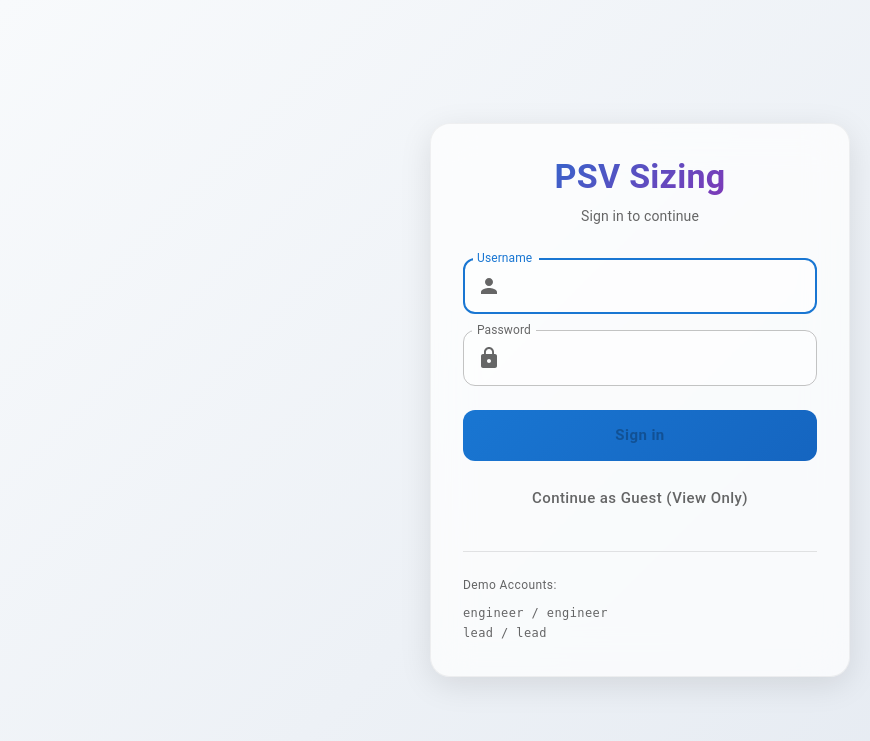
Test: LoginPage › shows error message when login fails
Type "invalid" into the field labelled "Username". click: (663, 286)
box: x1=509 y1=258 x2=817 y2=314
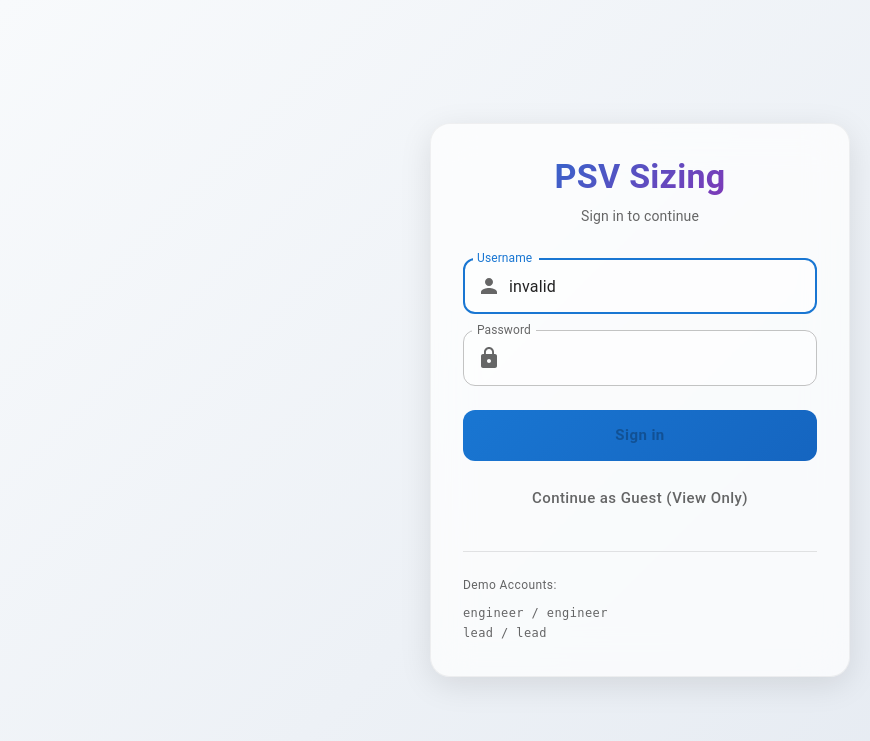
Type "invalid" into the password field labelled "Password". click: (663, 358)
box: x1=509 y1=330 x2=817 y2=386
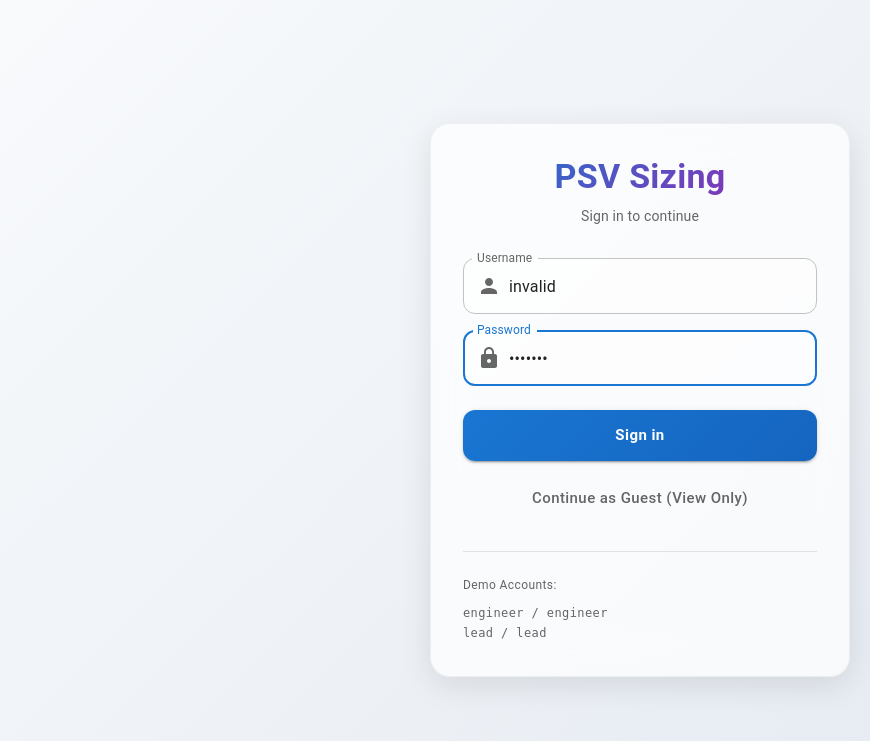
Click the button "Sign in". click: (640, 436)
box: x1=463 y1=410 x2=817 y2=461
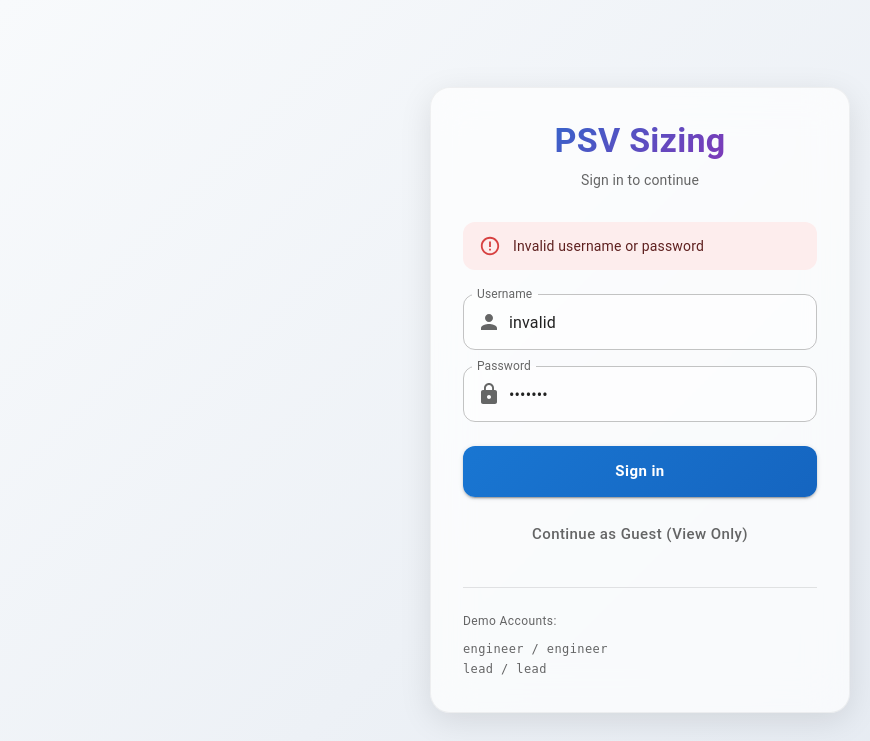
Expected: the text "Invalid username or password" is shown, x1=513 y1=238 x2=704 y2=254
